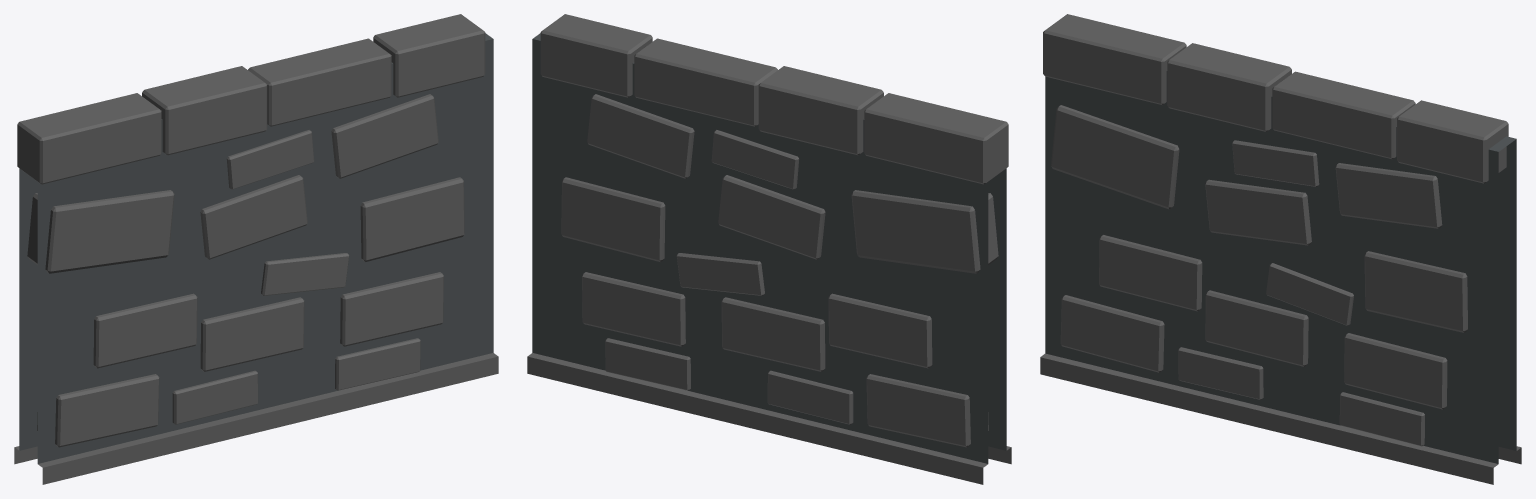
Rendered from Wall.fbx.
The picture shows the model from 3 angles, left to right: view 1: azimuth 30°, elevation 25°; view 2: azimuth 150°, elevation 25°; view 3: azimuth 330°, elevation 25°; orthographic projection.
Parts seen in each view (by area): view 1: Wall; view 2: Wall; view 3: Wall.
Boxes of the visible parts, x1=… form: Wall: x1=14, y1=14, x2=498, y2=484; Wall: x1=527, y1=14, x2=1011, y2=484; Wall: x1=1040, y1=14, x2=1521, y2=484.
Size of the model in its own units: 4 by 2.89 by 0.4278.
Materials: 1 (1 with a texture image).
